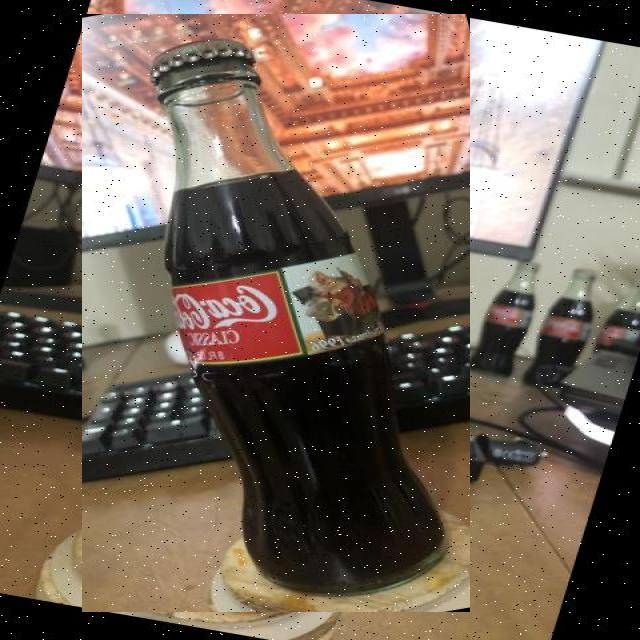coca-cola: (82, 14, 470, 612)
